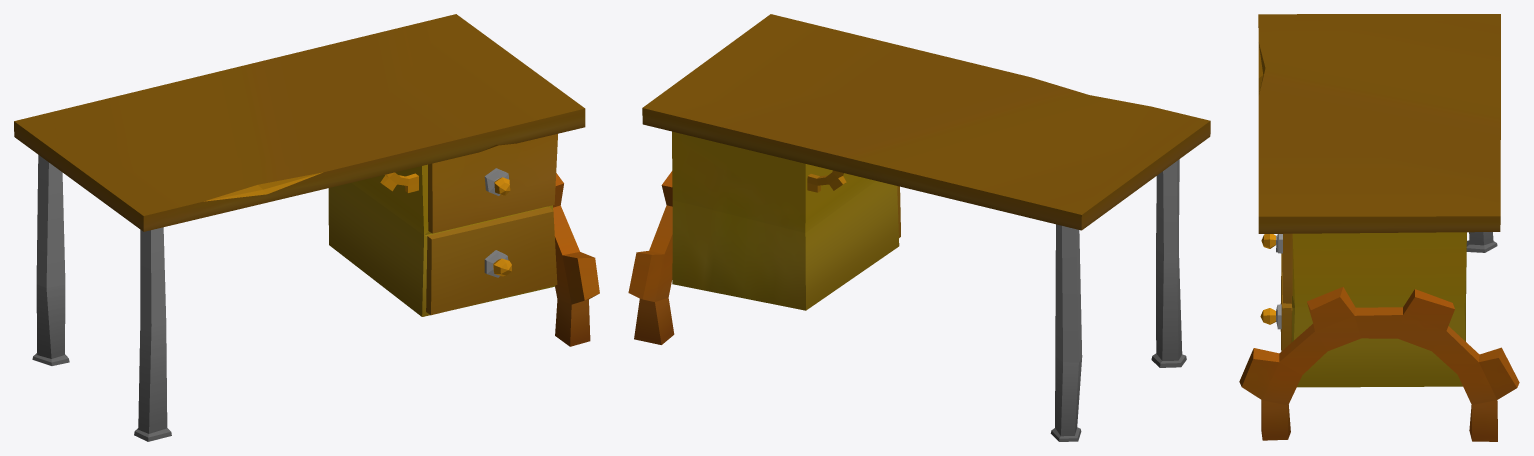
File: Steampunk Desk.glb
The picture shows the model from 3 angles, left to right: view 1: azimuth 30°, elevation 25°; view 2: azimuth 150°, elevation 25°; view 3: azimuth 270°, elevation 25°; orthographic projection. The views are drawn at different scales.
Visible parts, largest first — view 1: Desk; view 2: Desk; view 3: Desk.
Part boxes in pixels (bbox=[...]): Desk: bbox=[14, 14, 599, 441]; Desk: bbox=[628, 14, 1210, 441]; Desk: bbox=[1239, 14, 1519, 441].
Size of what is drawn, in the model's own units: 2.05 by 1.03 by 1.17.
Materials: 1 (1 with a texture image).
